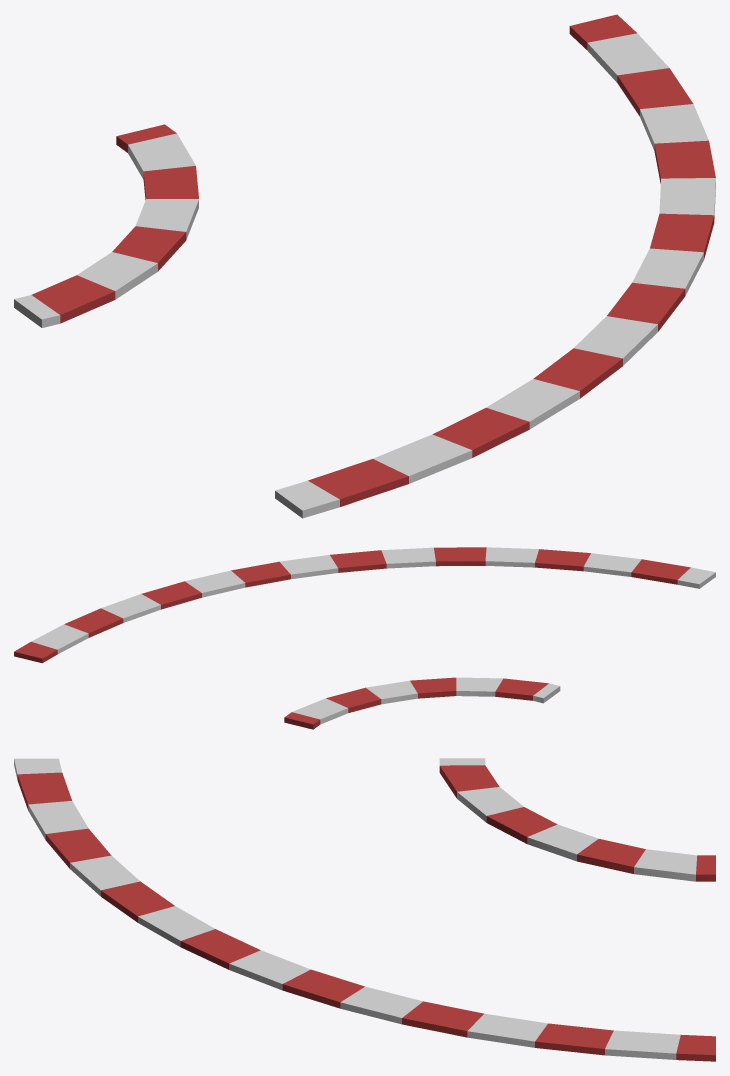
File: Road_Corner_Collider.fbx
3 views of the same model, one above another, from view 1: azimuth 30°, elevation 25°; view 2: azimuth 150°, elevation 25°; view 3: azimuth 270°, elevation 25° (orthographic). The views are drawn at different scales.
Parts seen in each view (by area): view 1: Road_Corner_Collider; view 2: Road_Corner_Collider; view 3: Road_Corner_Collider.
Part boxes in pixels (x1=…): Road_Corner_Collider: x1=14, y1=14, x2=715, y2=518; Road_Corner_Collider: x1=14, y1=547, x2=715, y2=729; Road_Corner_Collider: x1=14, y1=758, x2=715, y2=1061.
Size of the model in its own units: 30 by 0.3325 by 30.
